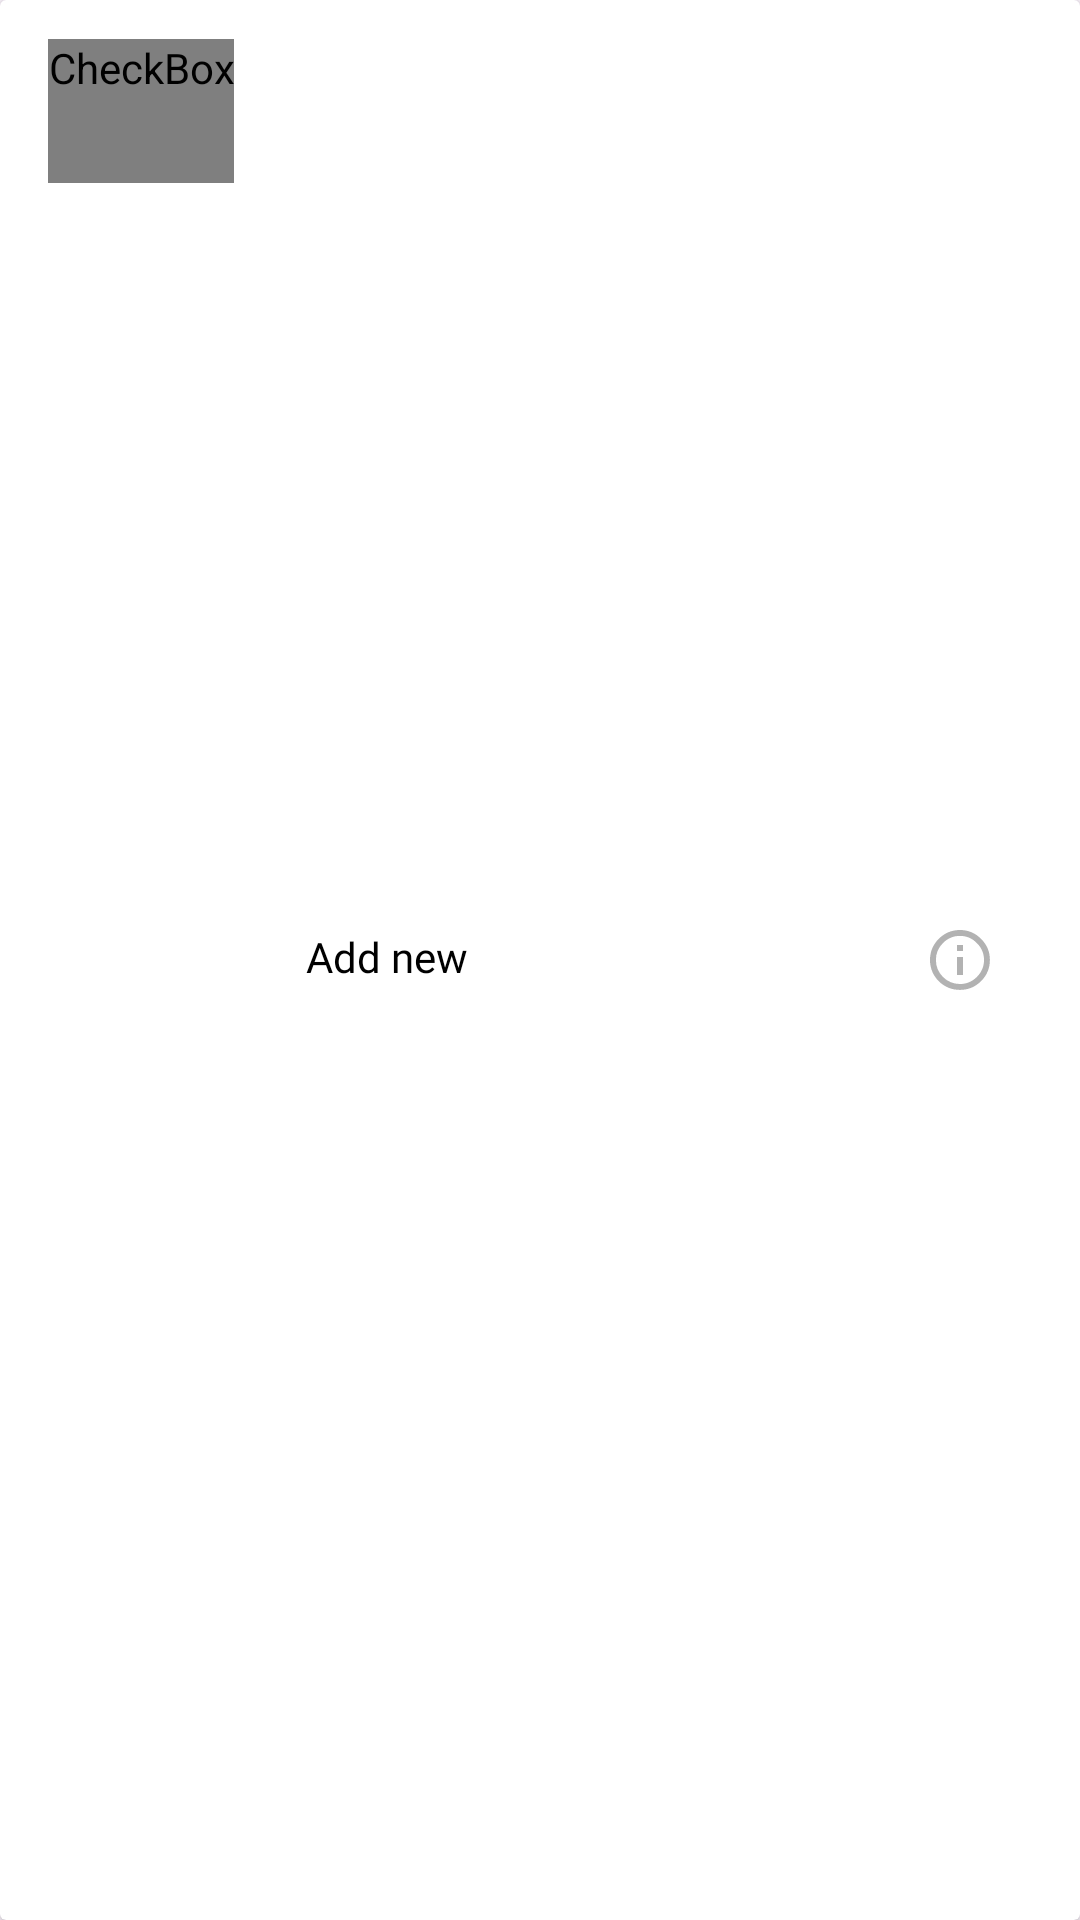

Named icons in this screenshot (1080 x 1920) and their centers, point (x, y):
Item info: point (960, 960)
